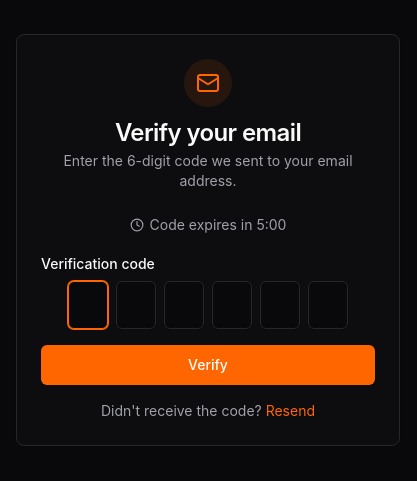
Test: VerifyEmailPage — resend › shows error when resend fails
The width and height of the screenshot is (417, 481).
Click the button "Resend".
click(290, 411)  # box [266,401,315,421]
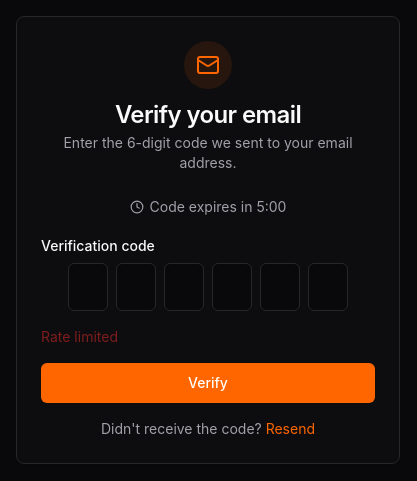
Expected: the message reads "Rate limited", [41,328,118,345]
